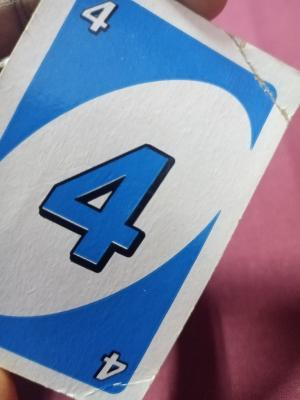blue: (47, 13, 153, 377), (76, 4, 129, 39)
num_4: (83, 341, 130, 382)
